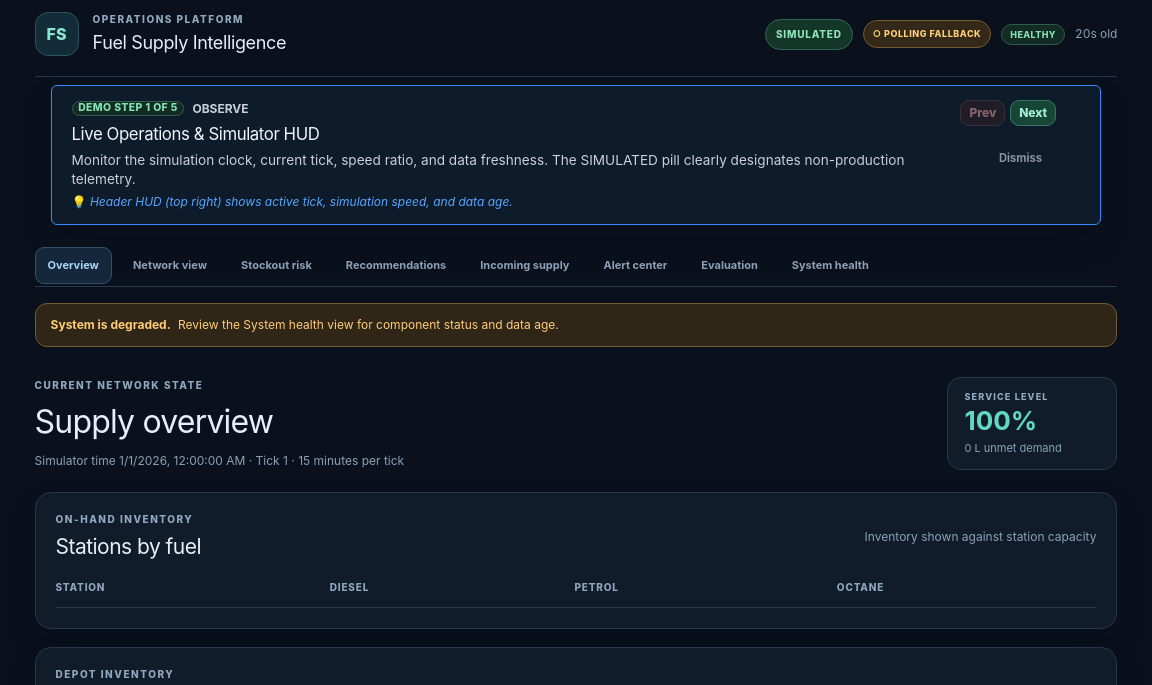
Test: operator application › shows component status and performance on the system health page
Expected: the heading "Supply overview" is shown, 34,402 -> 273,440
Expected: the text "System is degraded." is shown, 50,317 -> 171,332
Step 1. Click the button "System health" → (830, 266), box 779,247 -> 882,284
(page scrolled)
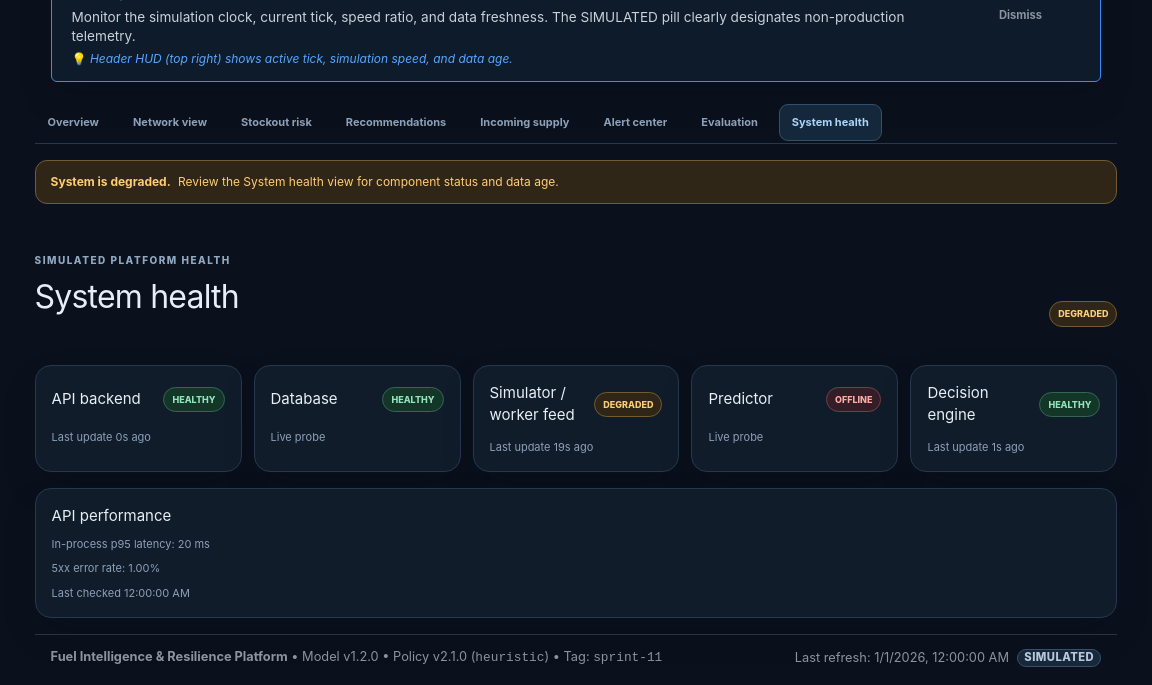
Now the heading "System health" is shown, box 34,273 -> 239,321
Now the heading "Predictor" is shown, box 708,388 -> 773,411
Now the text "OFFLINE" is shown, box 826,387 -> 881,412
